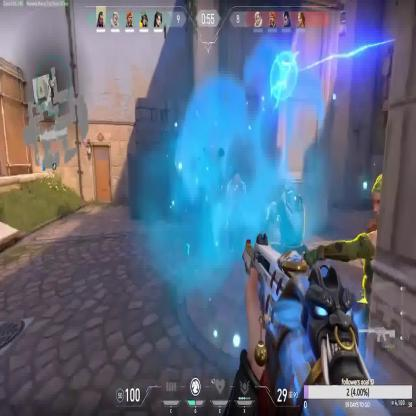enemy: (306, 169, 390, 346), (268, 177, 310, 307), (226, 172, 248, 254)
enemy_head: (371, 174, 387, 216), (284, 177, 294, 192), (234, 173, 242, 184)
